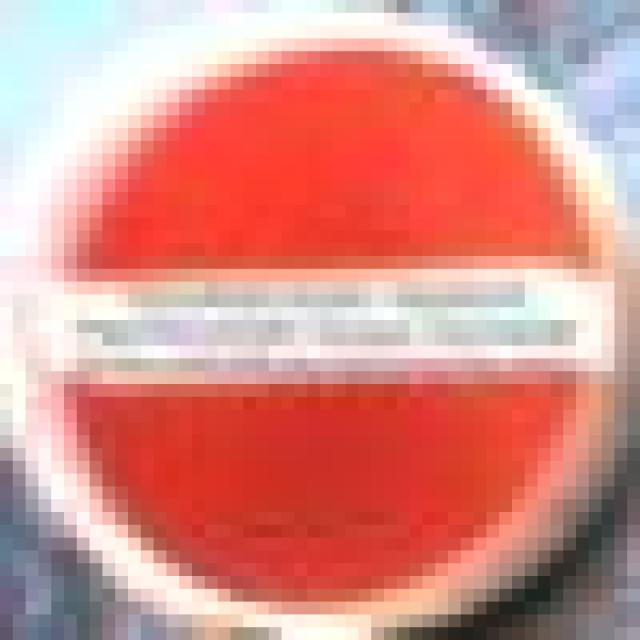Sens-Interdit: (15, 13, 618, 614)
